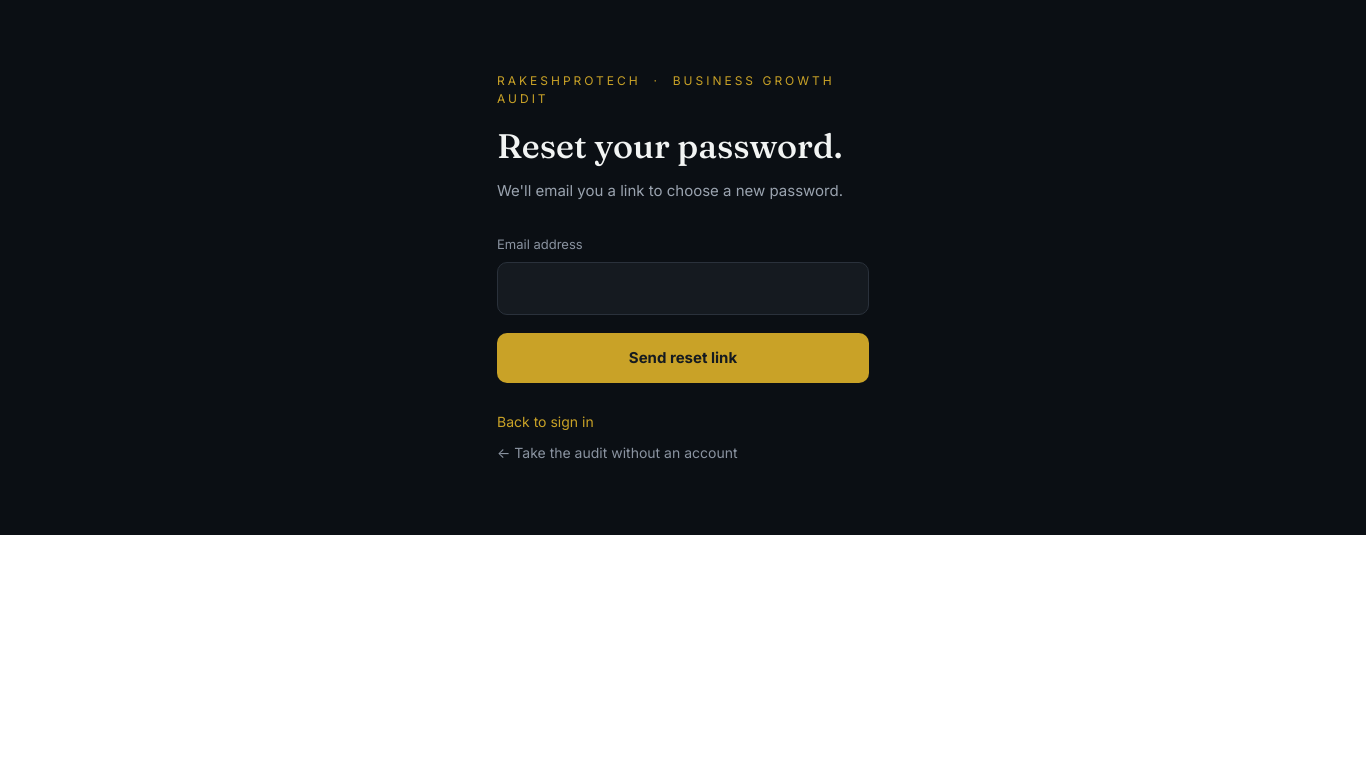
Test: AuthForm — forgot password › does not reveal whether the address is registered
The image size is (1366, 768).
Type "nobody@nowhere.com" into the field labelled "Email address" at (683, 289), box [497,262,869,315]
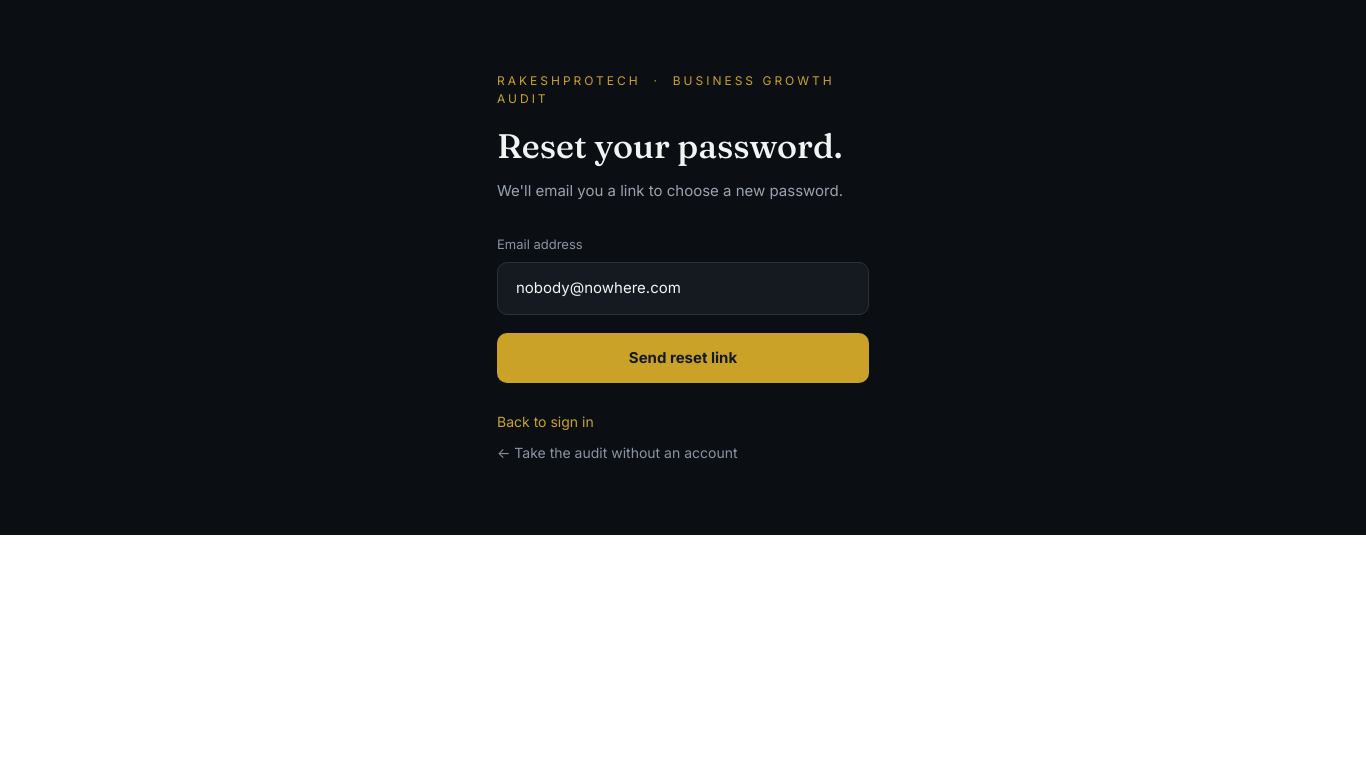
Click the button "Send reset link" at (683, 358), box [497,333,869,383]
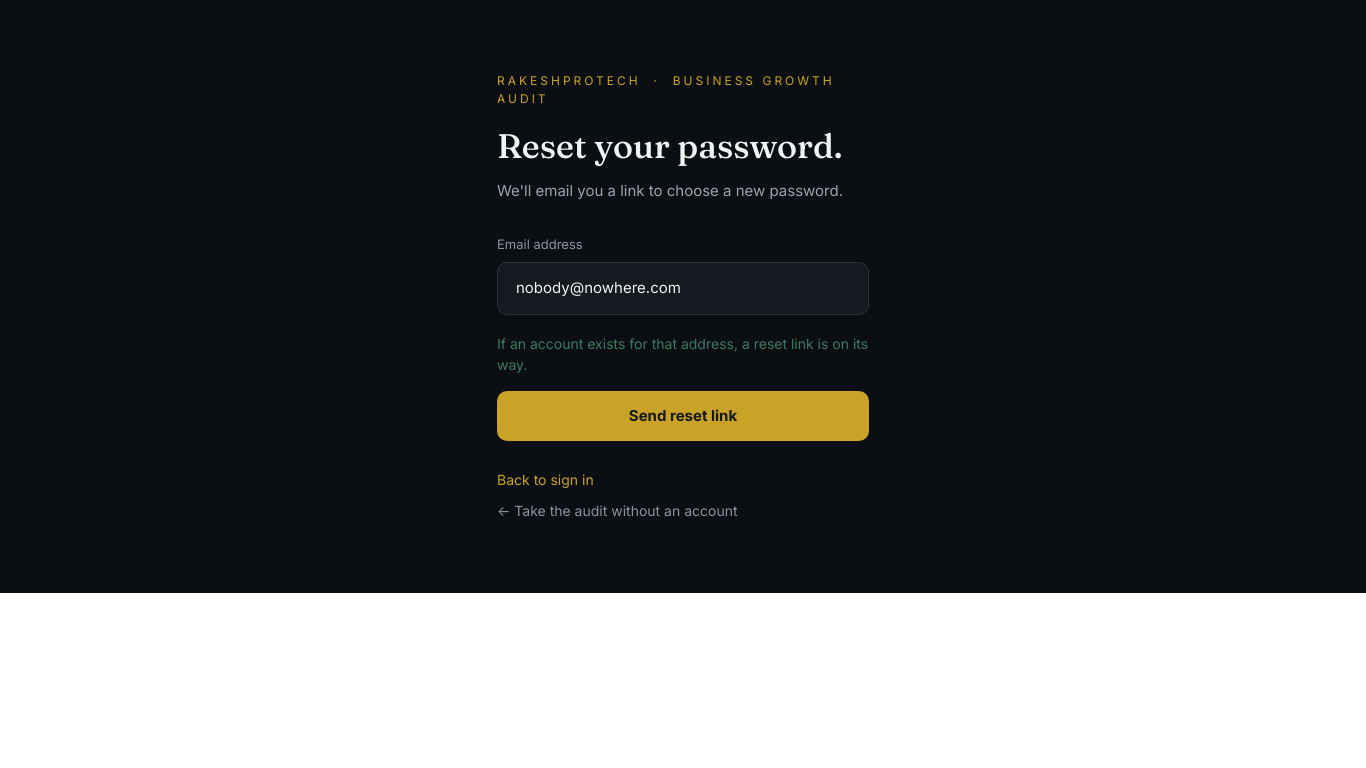
Check: the message shows "If an account exists", box [497,335,868,373]
